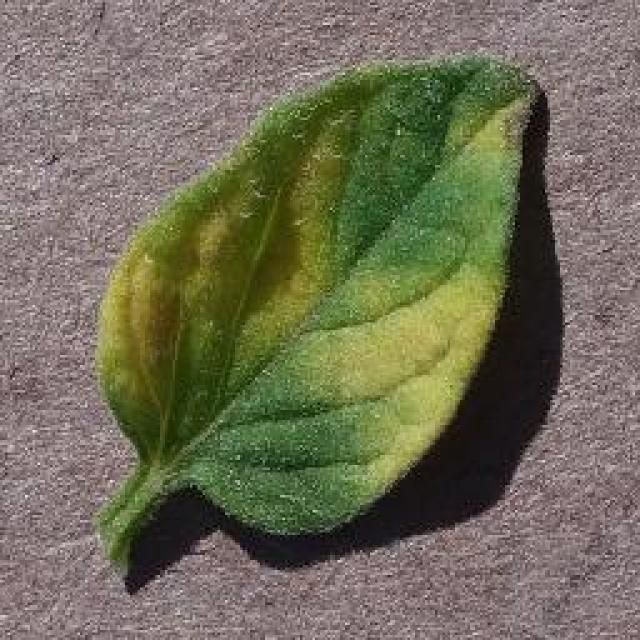Tomato___Leaf_Mold: (98, 55, 538, 572)
